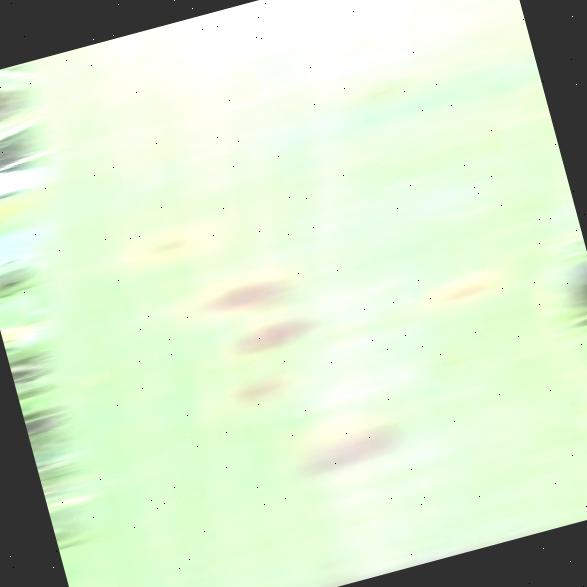Brown_Spot: (258, 390, 436, 497), (170, 246, 322, 332), (212, 298, 337, 368), (395, 329, 501, 392), (338, 56, 432, 112), (418, 262, 503, 316), (124, 215, 202, 268), (220, 363, 299, 414)
